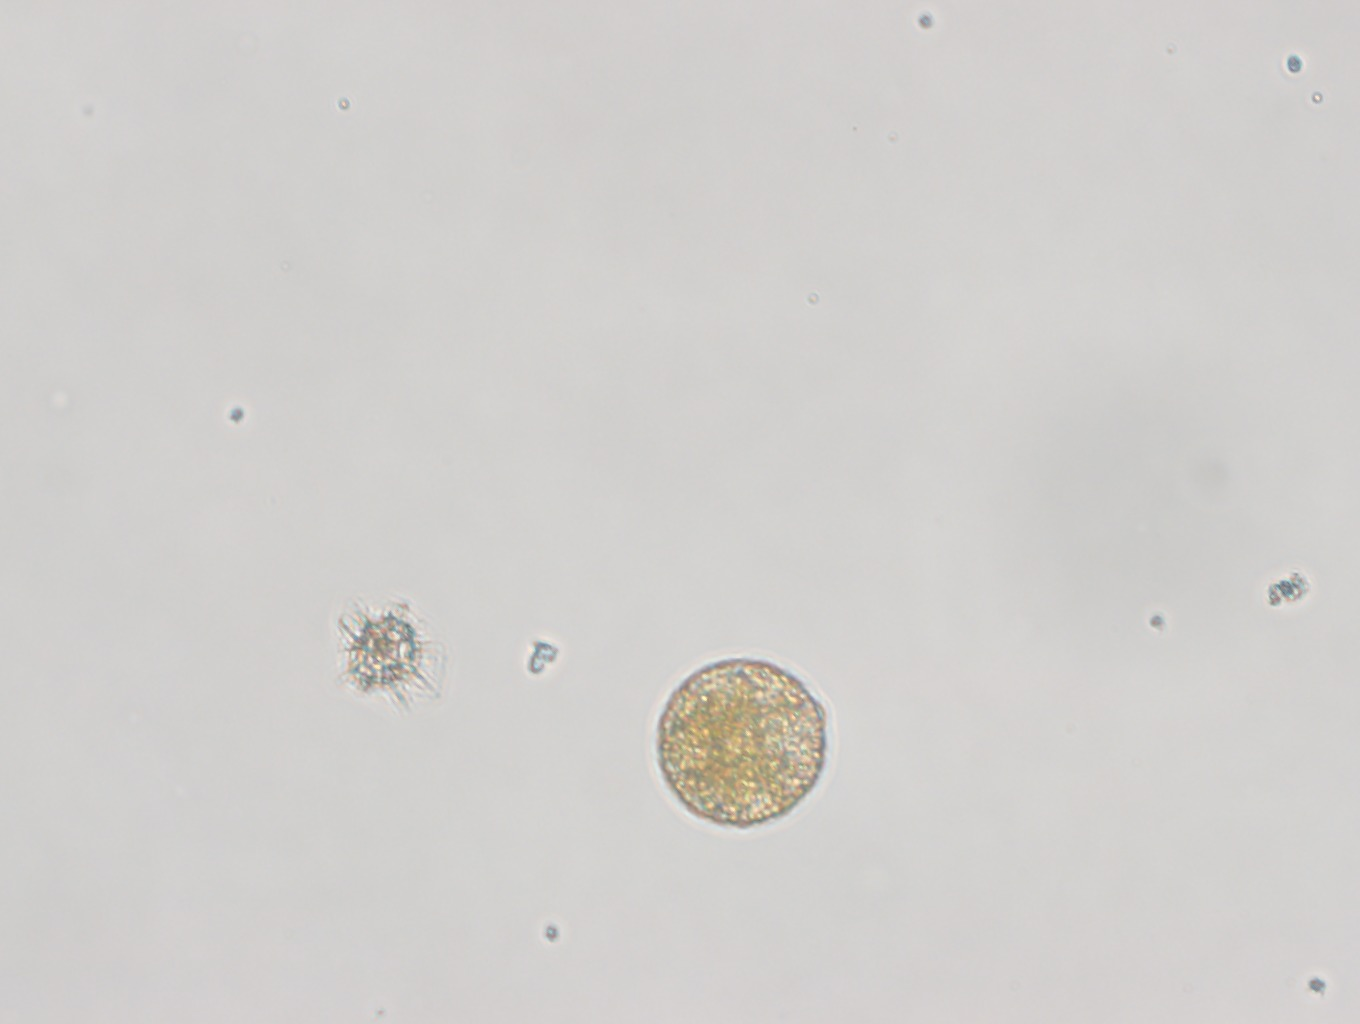coscinodiscus: (648, 649, 835, 833)
